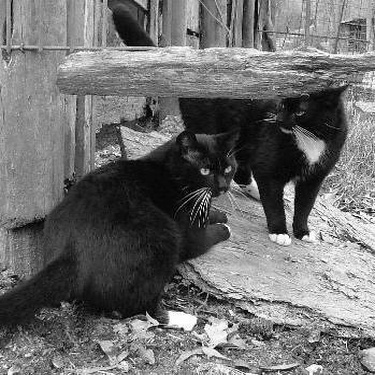cat: (21, 121, 242, 325), (178, 13, 354, 247)
